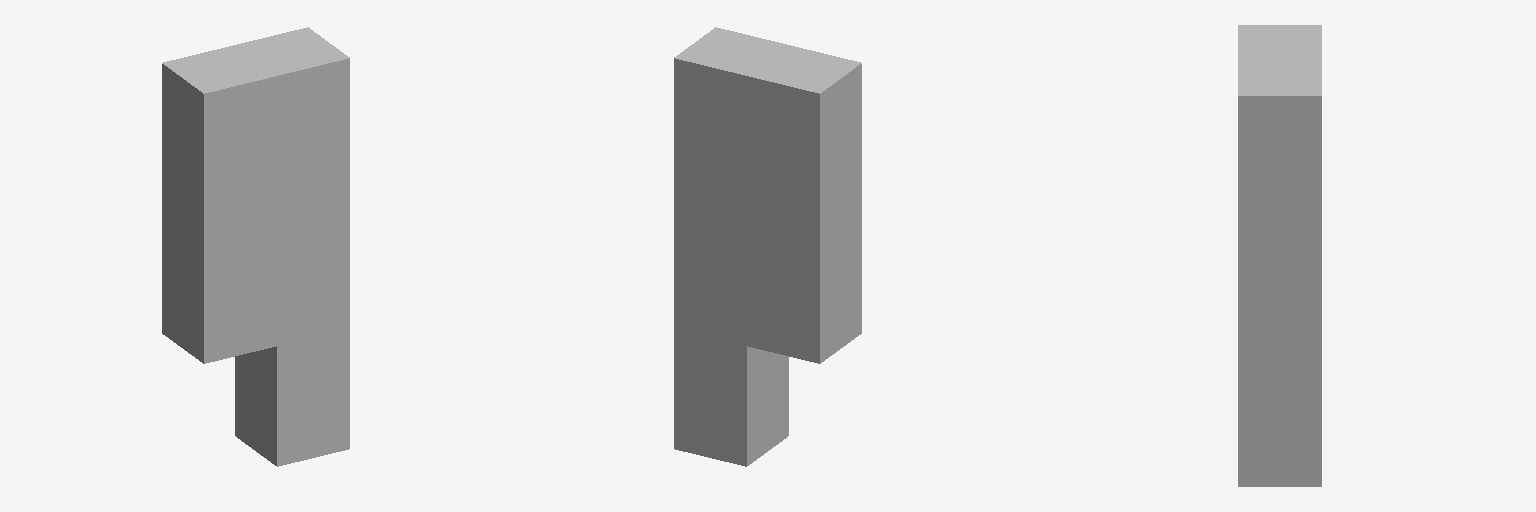
Rendered from L-collider.obj.
The picture shows the model from 3 angles: view 1: azimuth 30°, elevation 25°; view 2: azimuth 150°, elevation 25°; view 3: azimuth 270°, elevation 25°; orthographic projection.
Visible parts, largest first — view 1: Cube; view 2: Cube; view 3: Cube.
Part boxes in pixels (left/top/right/bottom): Cube: left=162, top=27, right=349, bottom=466; Cube: left=674, top=27, right=861, bottom=466; Cube: left=1238, top=25, right=1321, bottom=486.
Size of the model in its own units: 1 by 2.55 by 0.5.